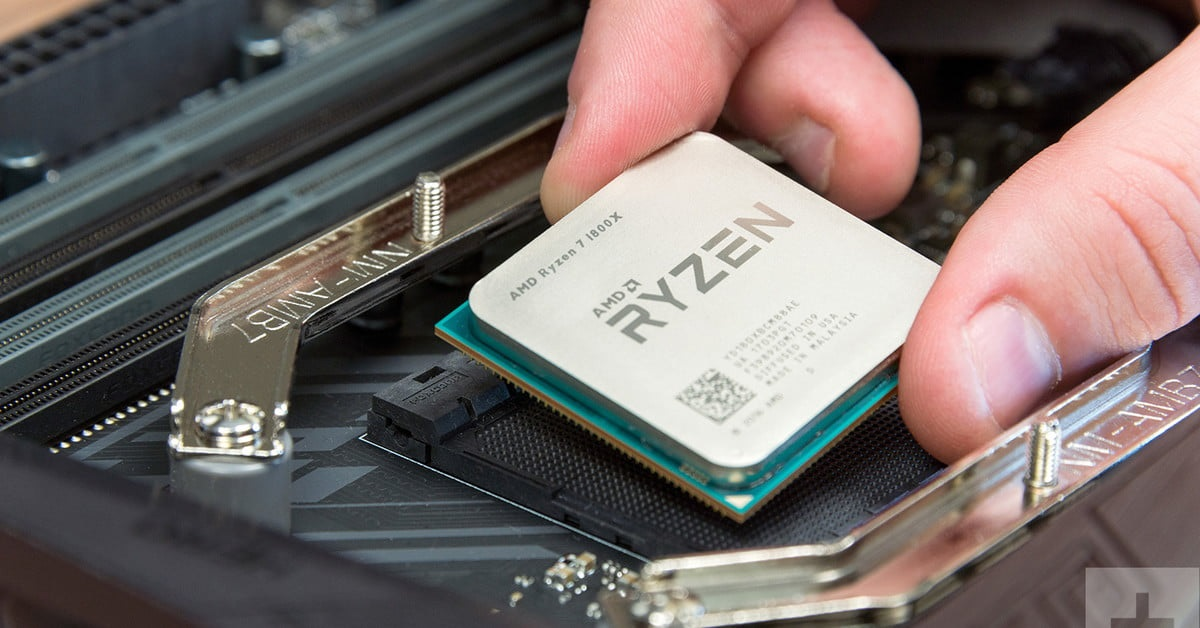processor: (433, 128, 944, 524)
